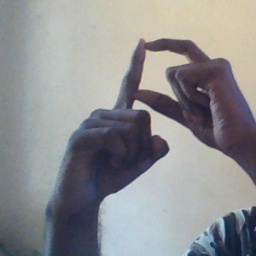D: (96, 29, 237, 155)
